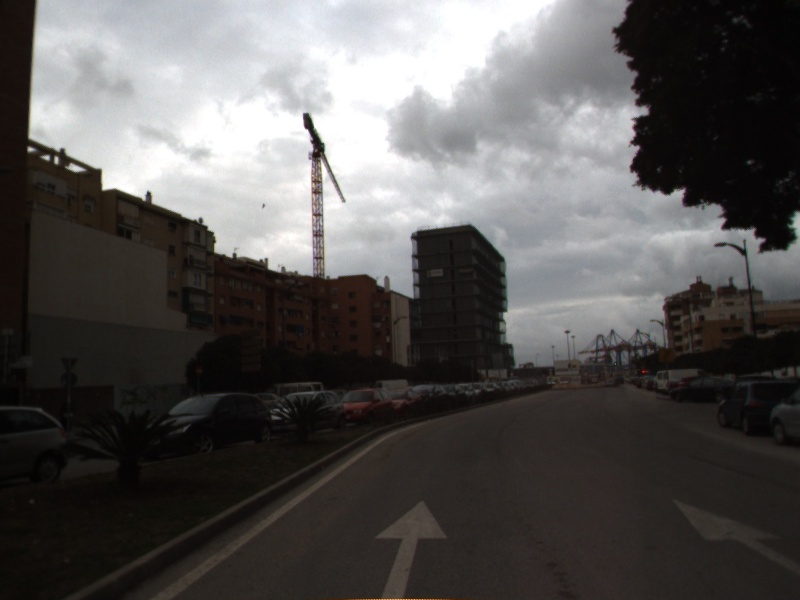STRAIGHT: (669, 495, 800, 578), (371, 496, 453, 600)
